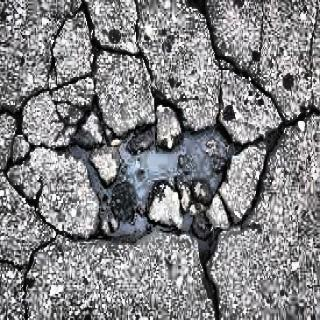alligator-crack: (29, 0, 263, 100), (3, 104, 83, 255), (242, 106, 303, 226)
pothole: (91, 116, 234, 254)
